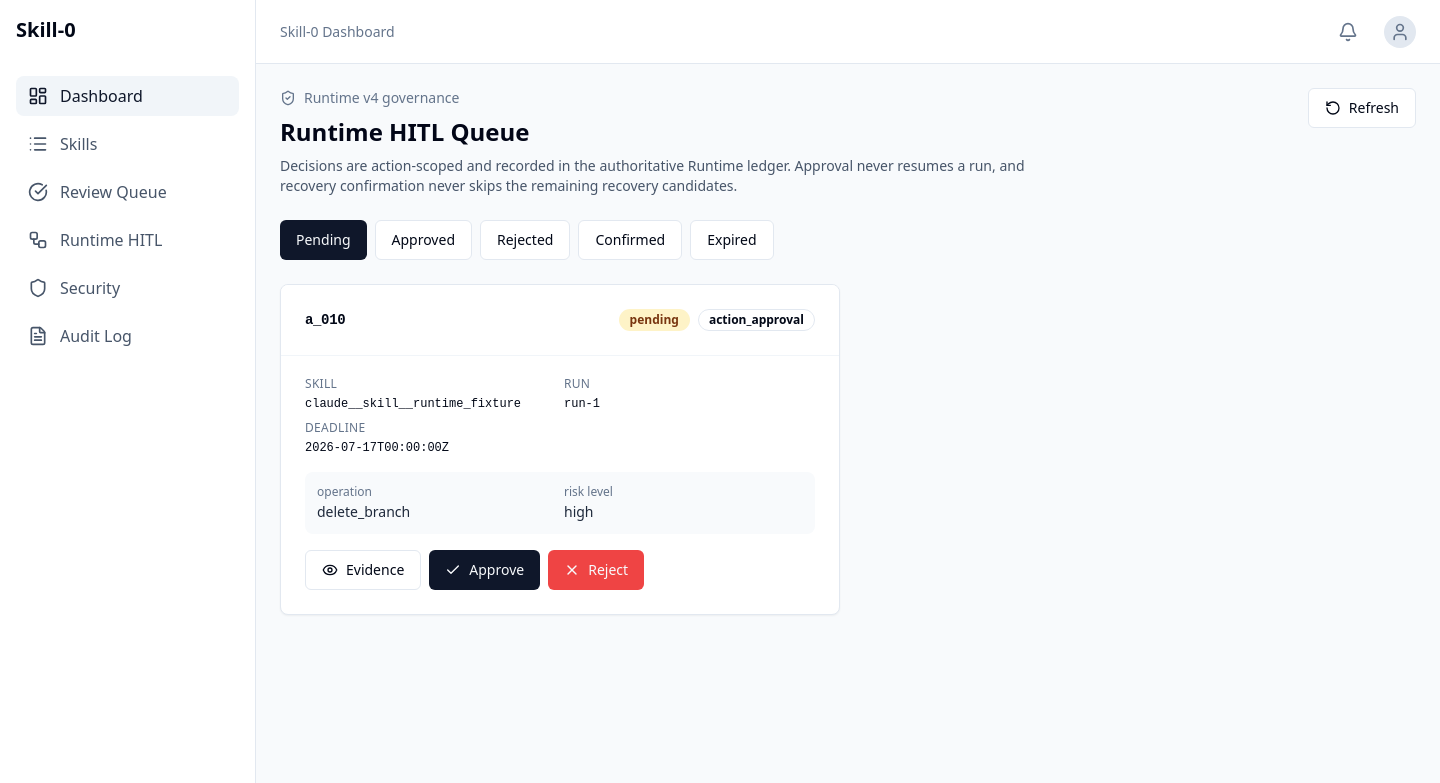
RuntimeGovernance › surfaces authorization and replay errors
Step 1. Click the button "Reject" → (596, 570), box top-left (548, 550), bottom-right (644, 590)
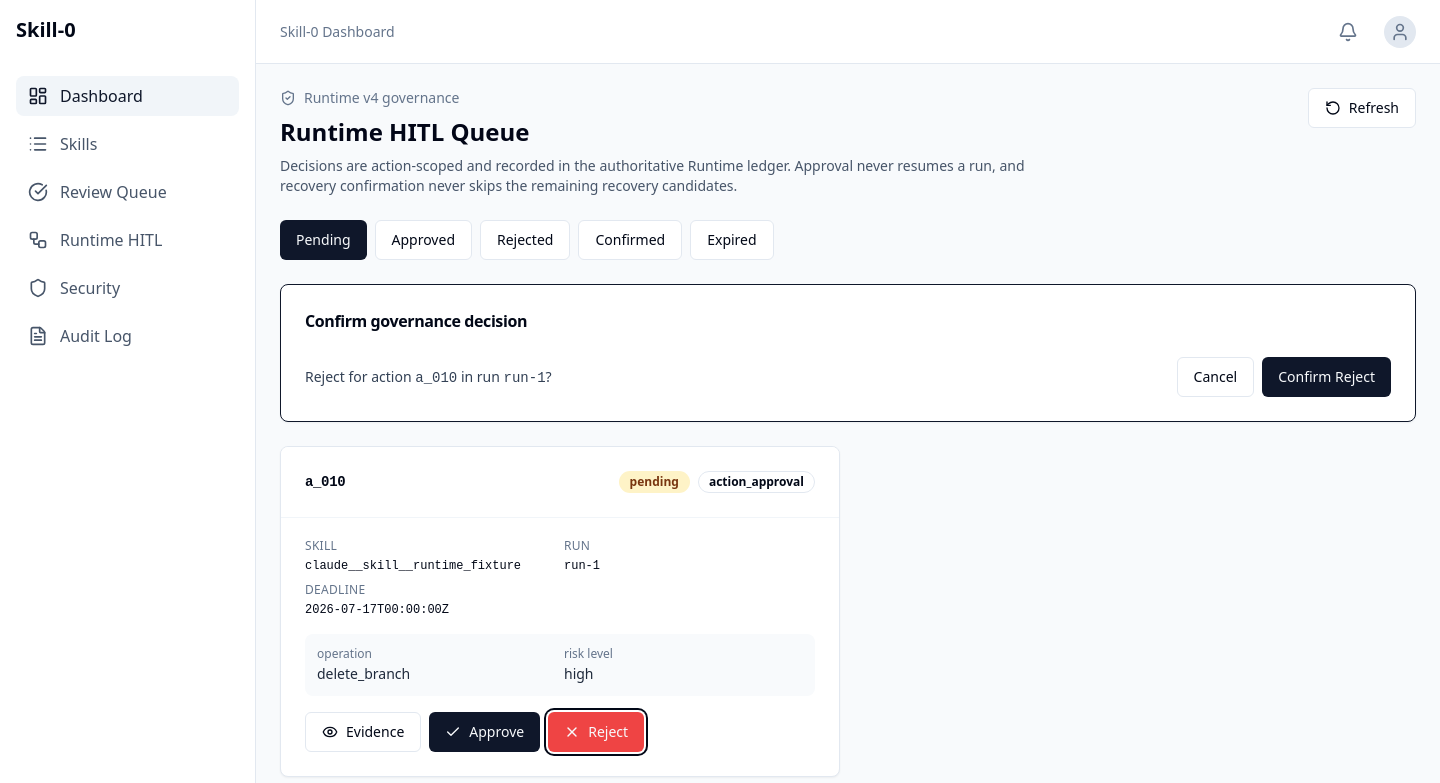
Step 2. Click the button "Confirm Reject" → (1327, 377), box top-left (1262, 357), bottom-right (1391, 397)
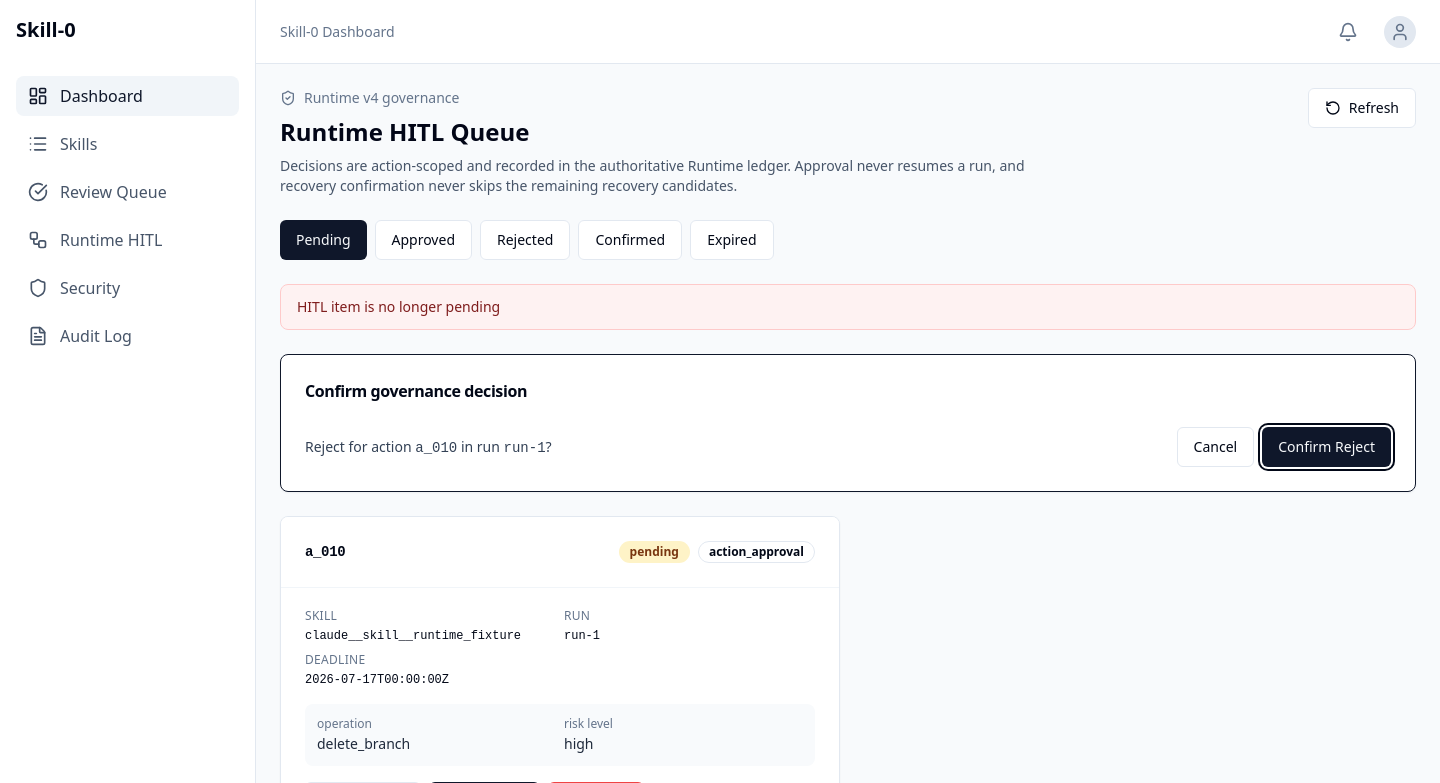
Now the message reads "HITL item is no longer pending", box top-left (297, 297), bottom-right (500, 316)
